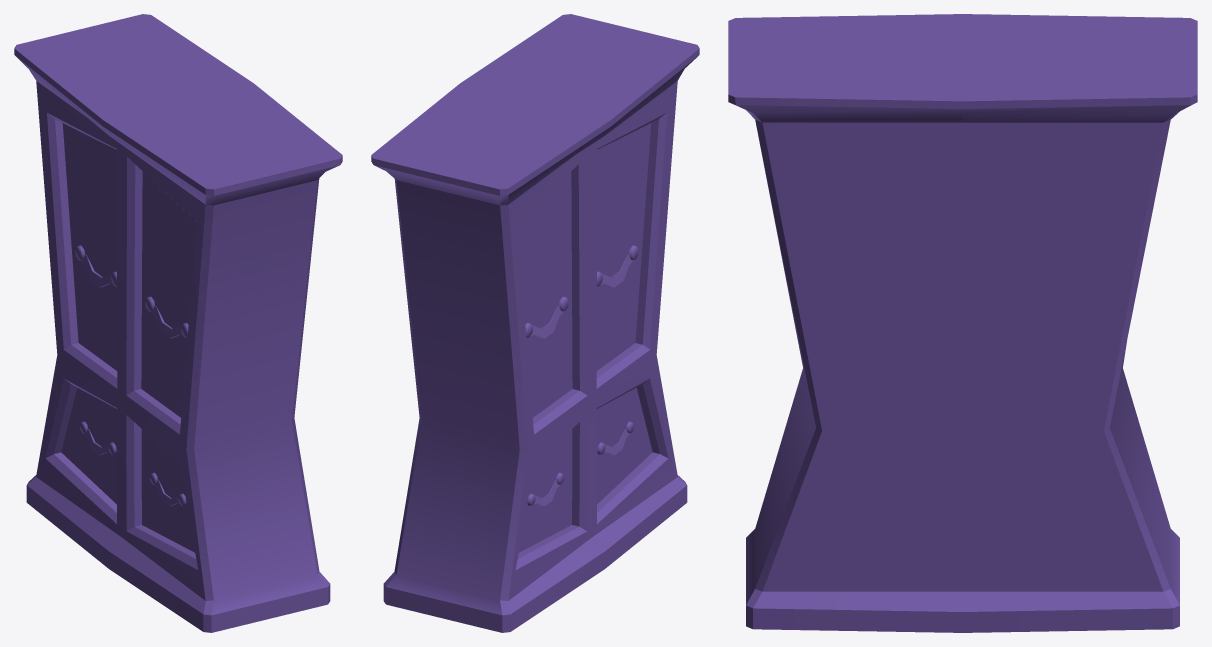
The model's file is SM_Wardrobe.fbx.
3 views of the same model, side by side, from view 1: azimuth 30°, elevation 25°; view 2: azimuth 150°, elevation 25°; view 3: azimuth 270°, elevation 25° (orthographic). The views are drawn at different scales.
Visible parts, largest first — view 1: SM_Wardrobe; view 2: SM_Wardrobe; view 3: SM_Wardrobe.
Part boxes in pixels (x1,y1,x2,y2): SM_Wardrobe: [14, 14, 342, 632]; SM_Wardrobe: [371, 14, 699, 632]; SM_Wardrobe: [728, 14, 1197, 632].
Size of the model in its own units: 122 by 349 by 277.
